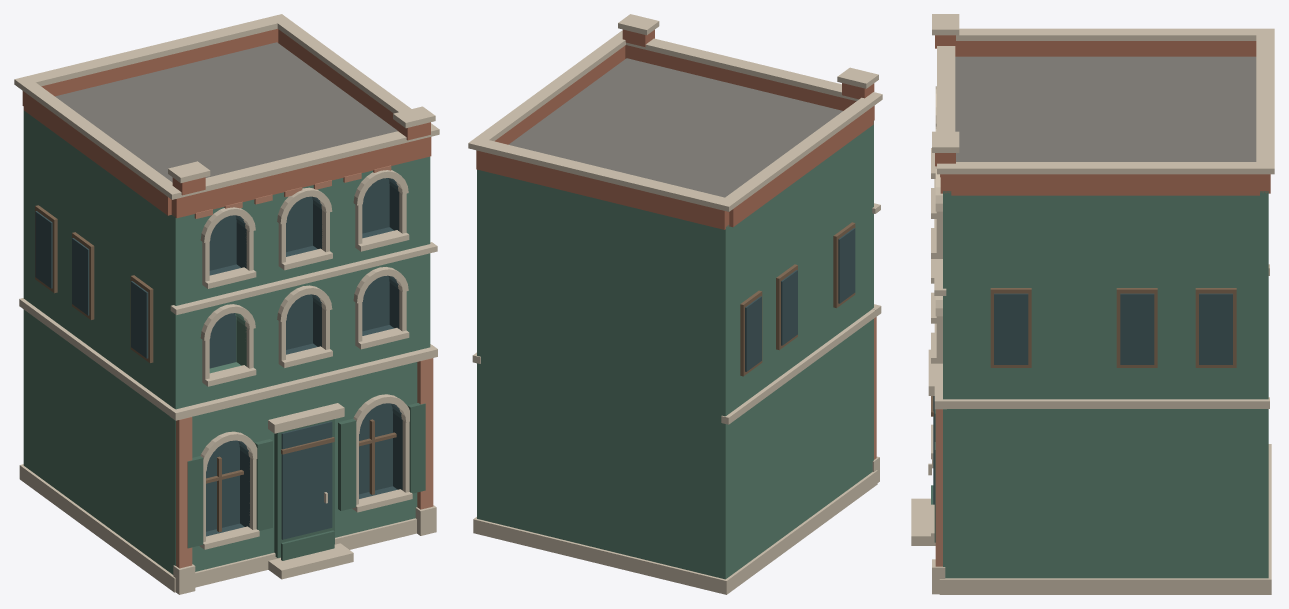
Rendered from building5.glb.
The picture shows the model from 3 angles, left to right: view 1: azimuth 30°, elevation 25°; view 2: azimuth 150°, elevation 25°; view 3: azimuth 270°, elevation 25°; orthographic projection. The views are drawn at different scales.
Parts seen in each view (by area): view 1: Building5; view 2: Building5; view 3: Building5.
Part boxes in pixels (<box>): Building5: <box>14,14,439,594</box>; Building5: <box>468,14,882,594</box>; Building5: <box>911,14,1274,594</box>.
Size of the model in its own units: 6.3 by 9.38 by 6.91.
